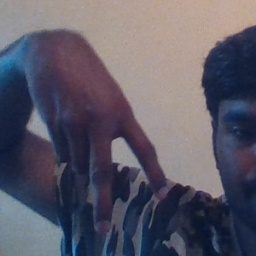Y: (44, 67, 176, 233)
